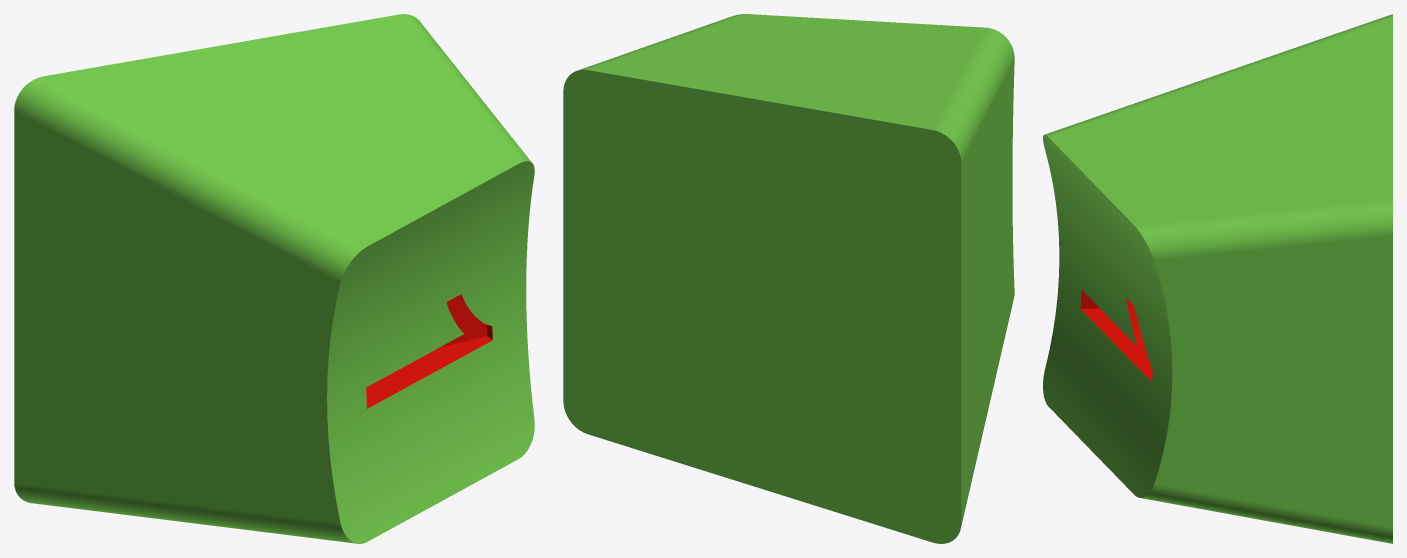
Rendered from Key1.fbx.
3 views of the same model, side by side, from view 1: azimuth 30°, elevation 25°; view 2: azimuth 150°, elevation 25°; view 3: azimuth 270°, elevation 25° (orthographic). The views are drawn at different scales.
Visible parts, largest first — view 1: Key1 v4; view 2: Key1 v4; view 3: Key1 v4.
Part boxes in pixels (bbox=[...]): Key1 v4: bbox=[14, 14, 534, 543]; Key1 v4: bbox=[563, 14, 1014, 543]; Key1 v4: bbox=[1043, 14, 1392, 543].
Bounding box in the file's own units: 1500 × 1486 × 1213.
